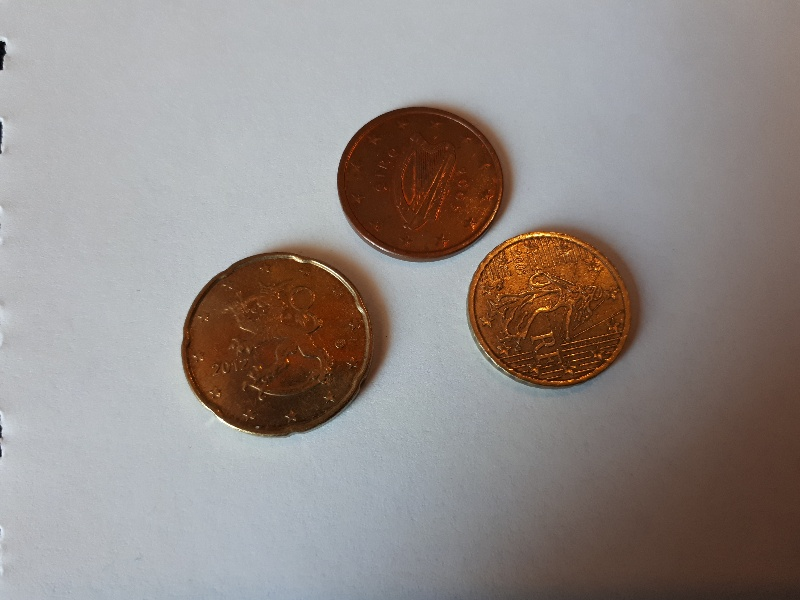10 cent: (465, 228, 634, 395)
20 cent: (179, 250, 375, 441)
5 cent: (331, 103, 510, 268)
